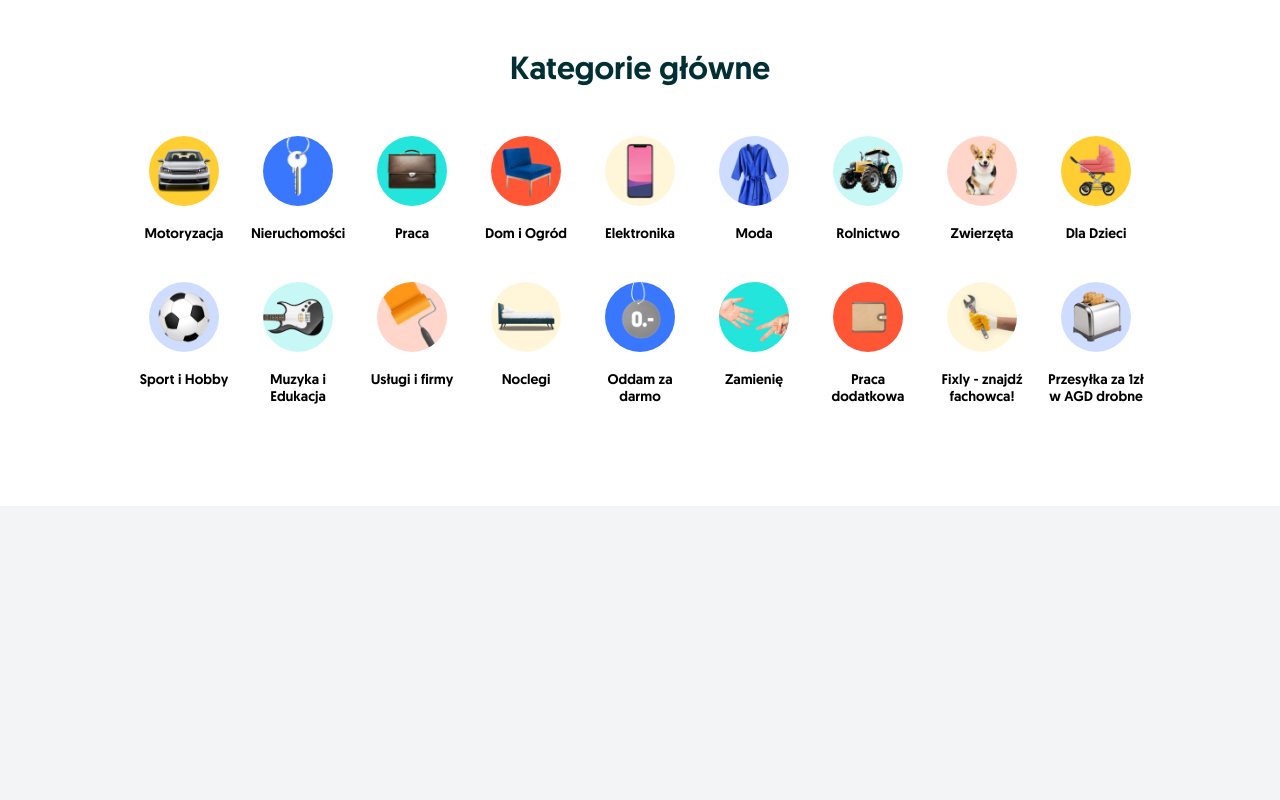
Test: Categories › Interaction › subcategories should be visible after clicking on the category
Click the button with aria-label "pokaż kategorię".
click(184, 189)  # box x1=144 y1=136 x2=224 y2=242
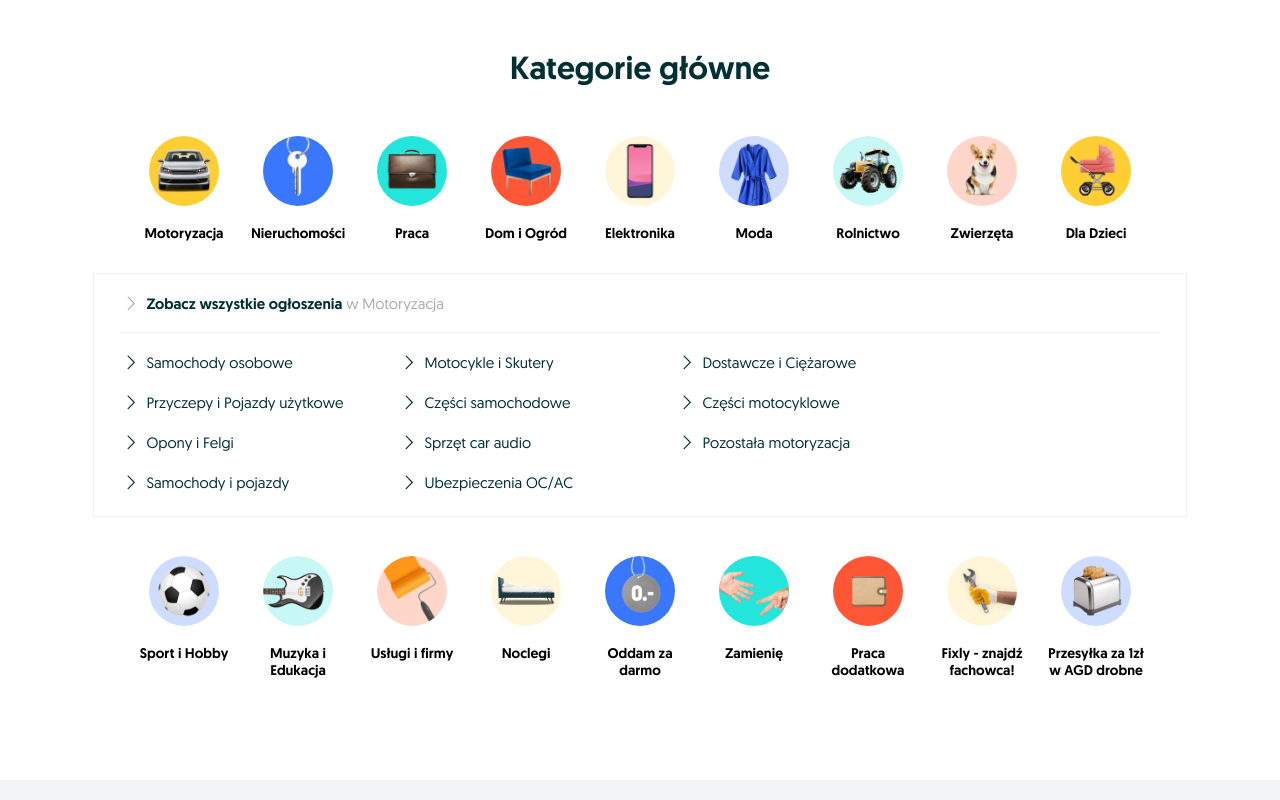
Expected: the list is shown, x1=93 y1=272 x2=1187 y2=516
